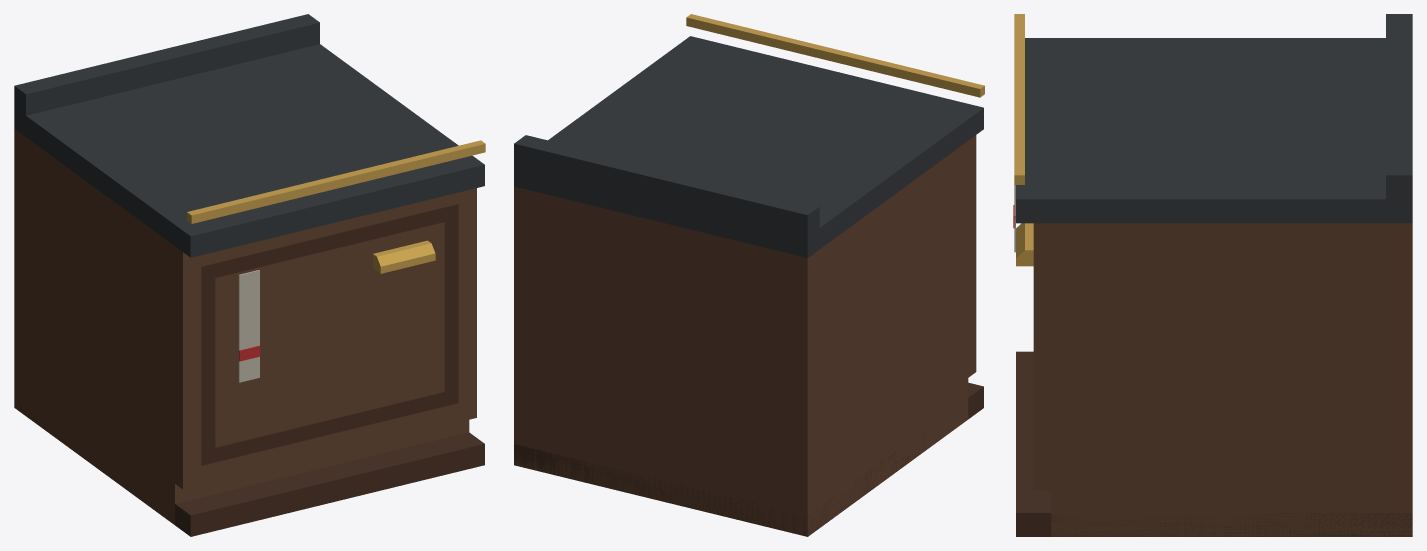
Rendered from kitchenCabinet.glb.
The picture shows the model from 3 angles, left to right: view 1: azimuth 30°, elevation 25°; view 2: azimuth 150°, elevation 25°; view 3: azimuth 270°, elevation 25°; orthographic projection. The views are drawn at different scales.
Parts seen in each view (by area): view 1: kitchenCabinet(Clone), door; view 2: kitchenCabinet(Clone); view 3: kitchenCabinet(Clone), door.
Part boxes in pixels (x1,y1,x2,y2): kitchenCabinet(Clone): (14, 14, 485, 536); door: (201, 204, 458, 465); kitchenCabinet(Clone): (514, 14, 984, 536); kitchenCabinet(Clone): (1013, 14, 1412, 536); door: (1016, 223, 1033, 266).
Size of the model in its own units: 0.43 by 0.45 by 0.45.
